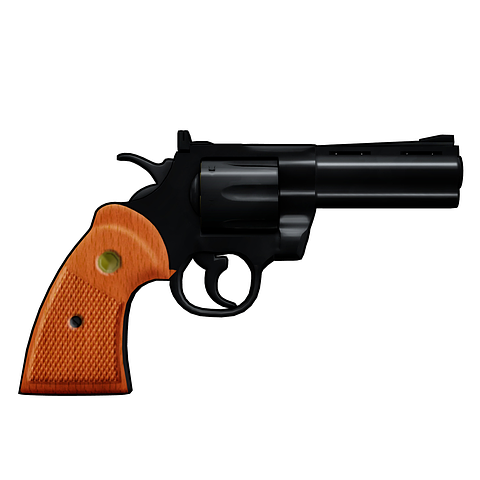gun: (16, 128, 465, 403)
